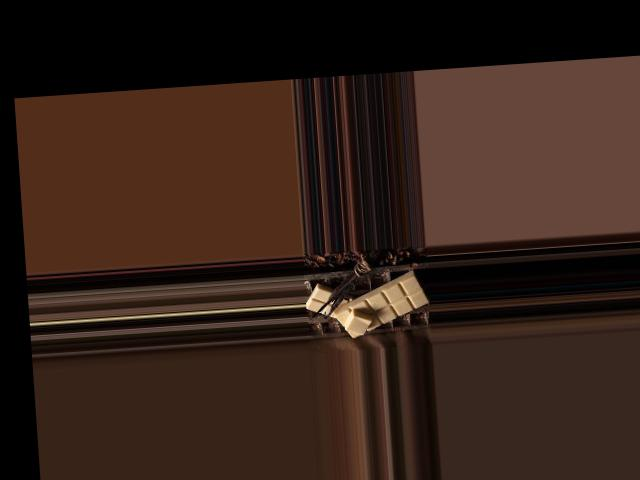chocolate: (329, 271, 429, 338)
